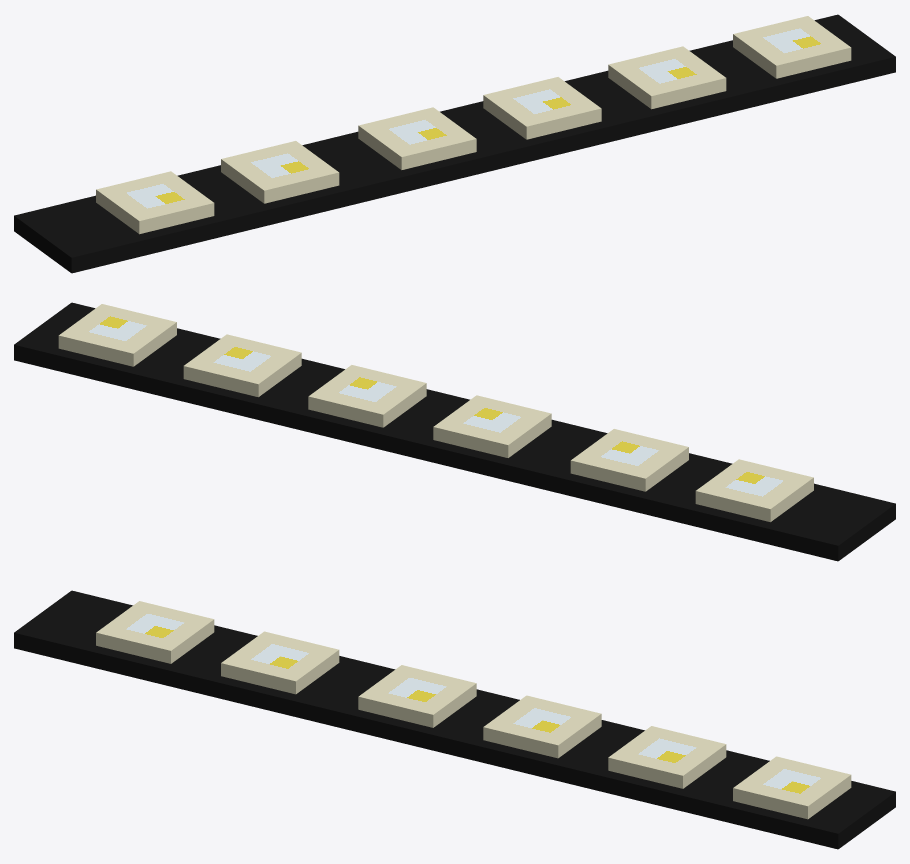
Rendered from neopixel_strip.gltf.
3 renders of one model, top to bottom at view 1: azimuth 30°, elevation 25°; view 2: azimuth 150°, elevation 25°; view 3: azimuth 330°, elevation 25°, orthographic.
Parts seen in each view (by area): view 1: base, neopixel_1, neopixel_3, neopixel_5, neopixel_0, neopixel_2, neopixel_4; view 2: base, neopixel_1, neopixel_3, neopixel_5, neopixel_0, neopixel_2, neopixel_4; view 3: base, neopixel_2, neopixel_0, neopixel_1, neopixel_3, neopixel_4, neopixel_5.
Boxes of the visible parts, bbox=[...] form: base: bbox=[14, 14, 895, 273]; neopixel_1: bbox=[608, 46, 726, 109]; neopixel_3: bbox=[358, 107, 476, 169]; neopixel_5: bbox=[96, 171, 214, 234]; neopixel_0: bbox=[733, 16, 851, 78]; neopixel_2: bbox=[483, 77, 601, 139]; neopixel_4: bbox=[221, 141, 339, 203]; base: bbox=[14, 302, 895, 561]; neopixel_1: bbox=[183, 334, 301, 397]; neopixel_3: bbox=[433, 395, 551, 457]; neopixel_5: bbox=[695, 459, 813, 522]; neopixel_0: bbox=[58, 304, 176, 366]; neopixel_2: bbox=[308, 365, 426, 427]; neopixel_4: bbox=[570, 429, 688, 491]; base: bbox=[14, 590, 895, 849]; neopixel_2: bbox=[483, 695, 601, 758]; neopixel_0: bbox=[733, 756, 851, 819]; neopixel_1: bbox=[608, 726, 726, 788]; neopixel_3: bbox=[358, 665, 476, 727]; neopixel_4: bbox=[221, 631, 339, 694]; neopixel_5: bbox=[96, 601, 214, 663].
Bounding box in the file's own units: 1.03 × 0.0344 × 0.125.
1 material, 1 textured.
